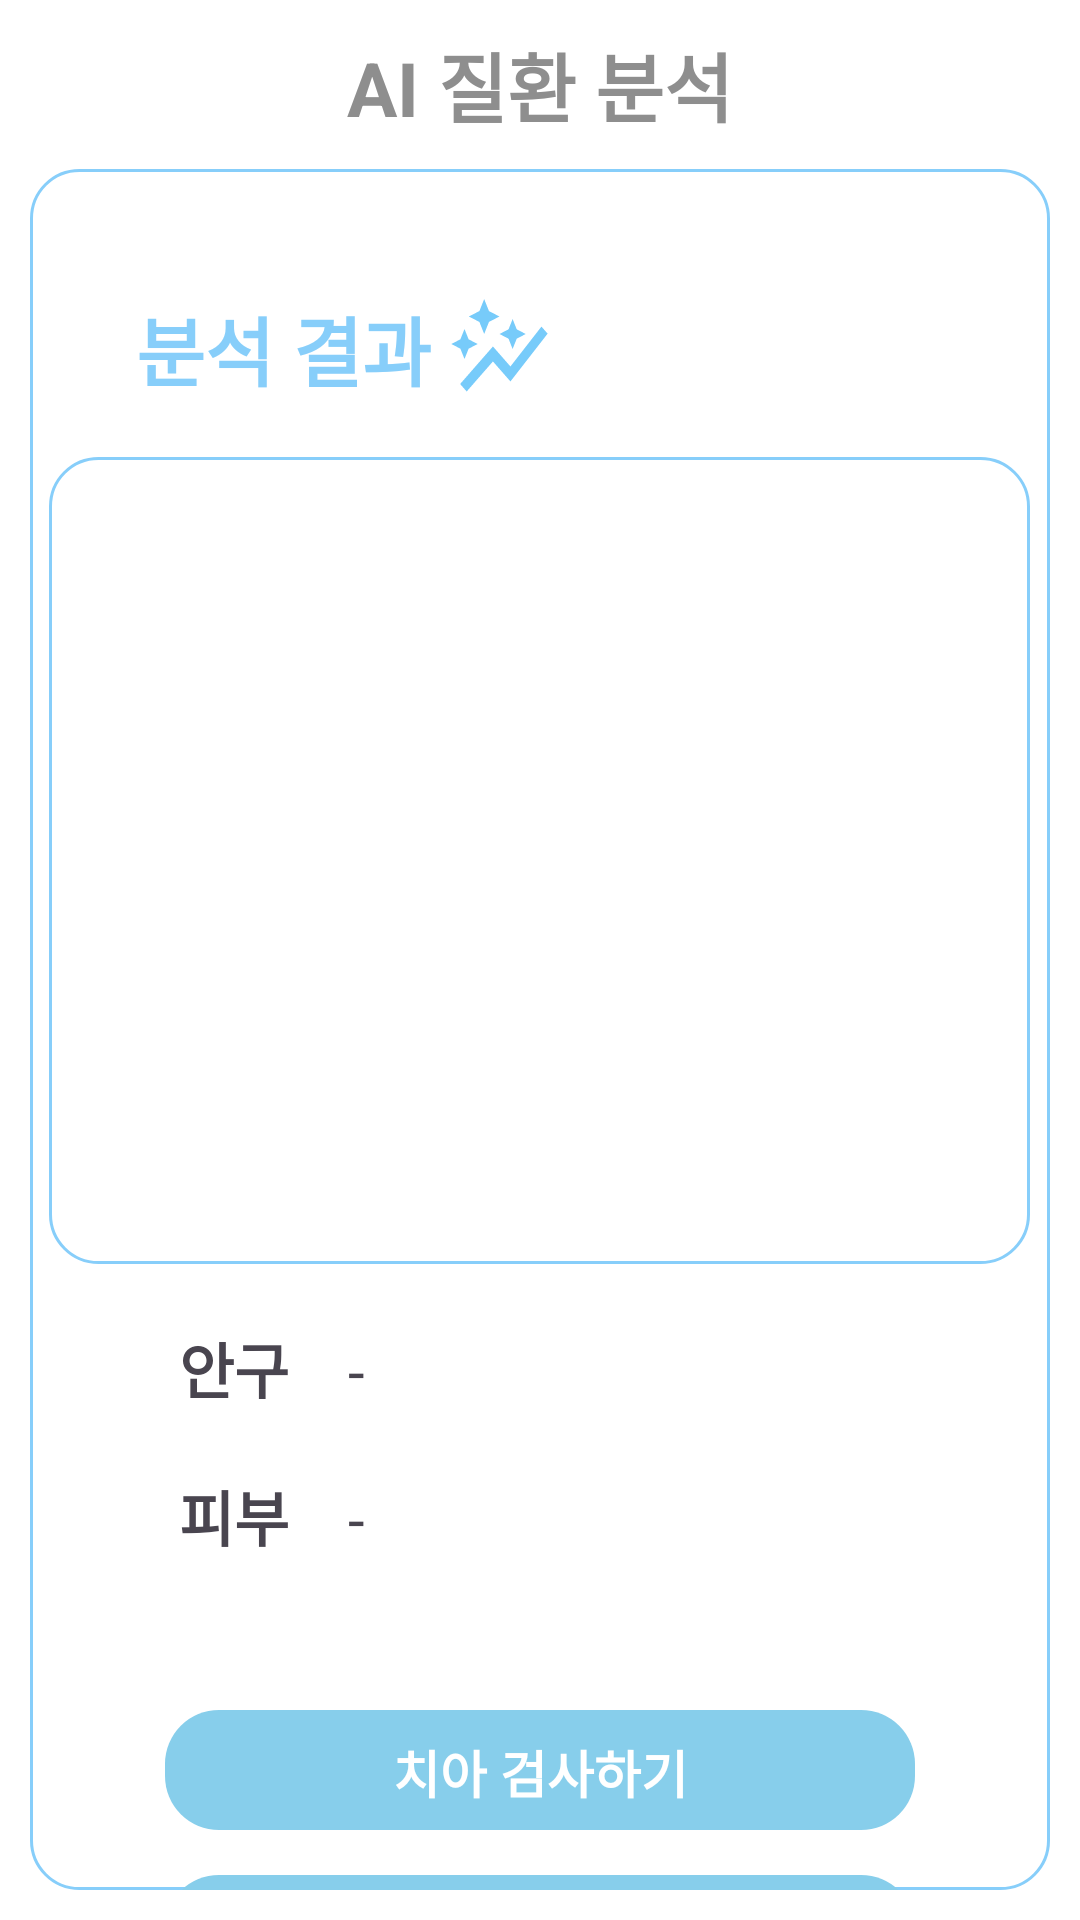

Where icons sit on this 1080px x 1920px app screen, as (x1, y1, x2, y2):
auto graph: (452, 299, 548, 392)
